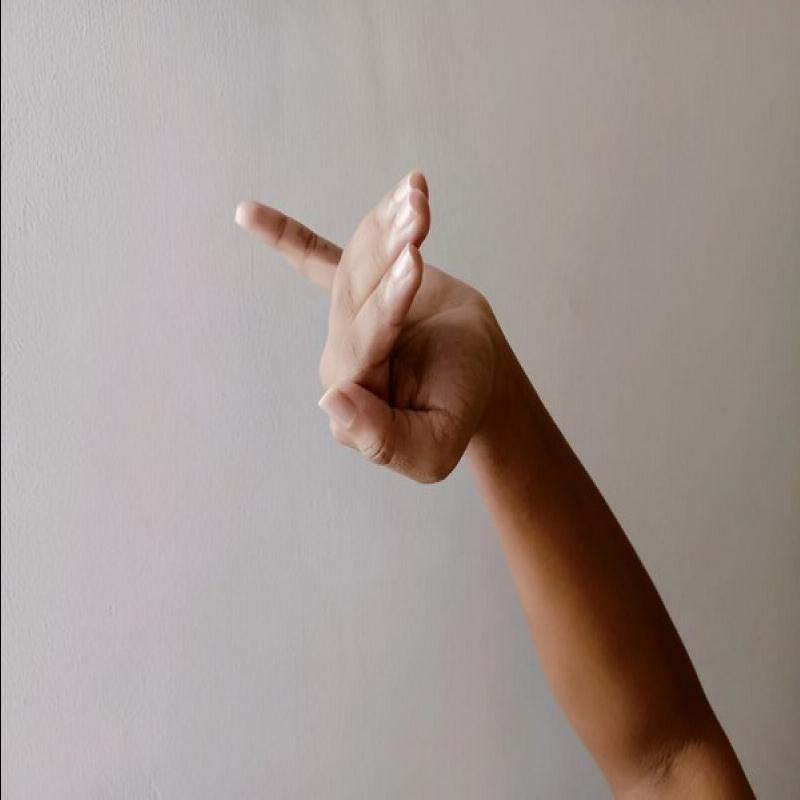Kartharee Mukham: (221, 166, 530, 500)
